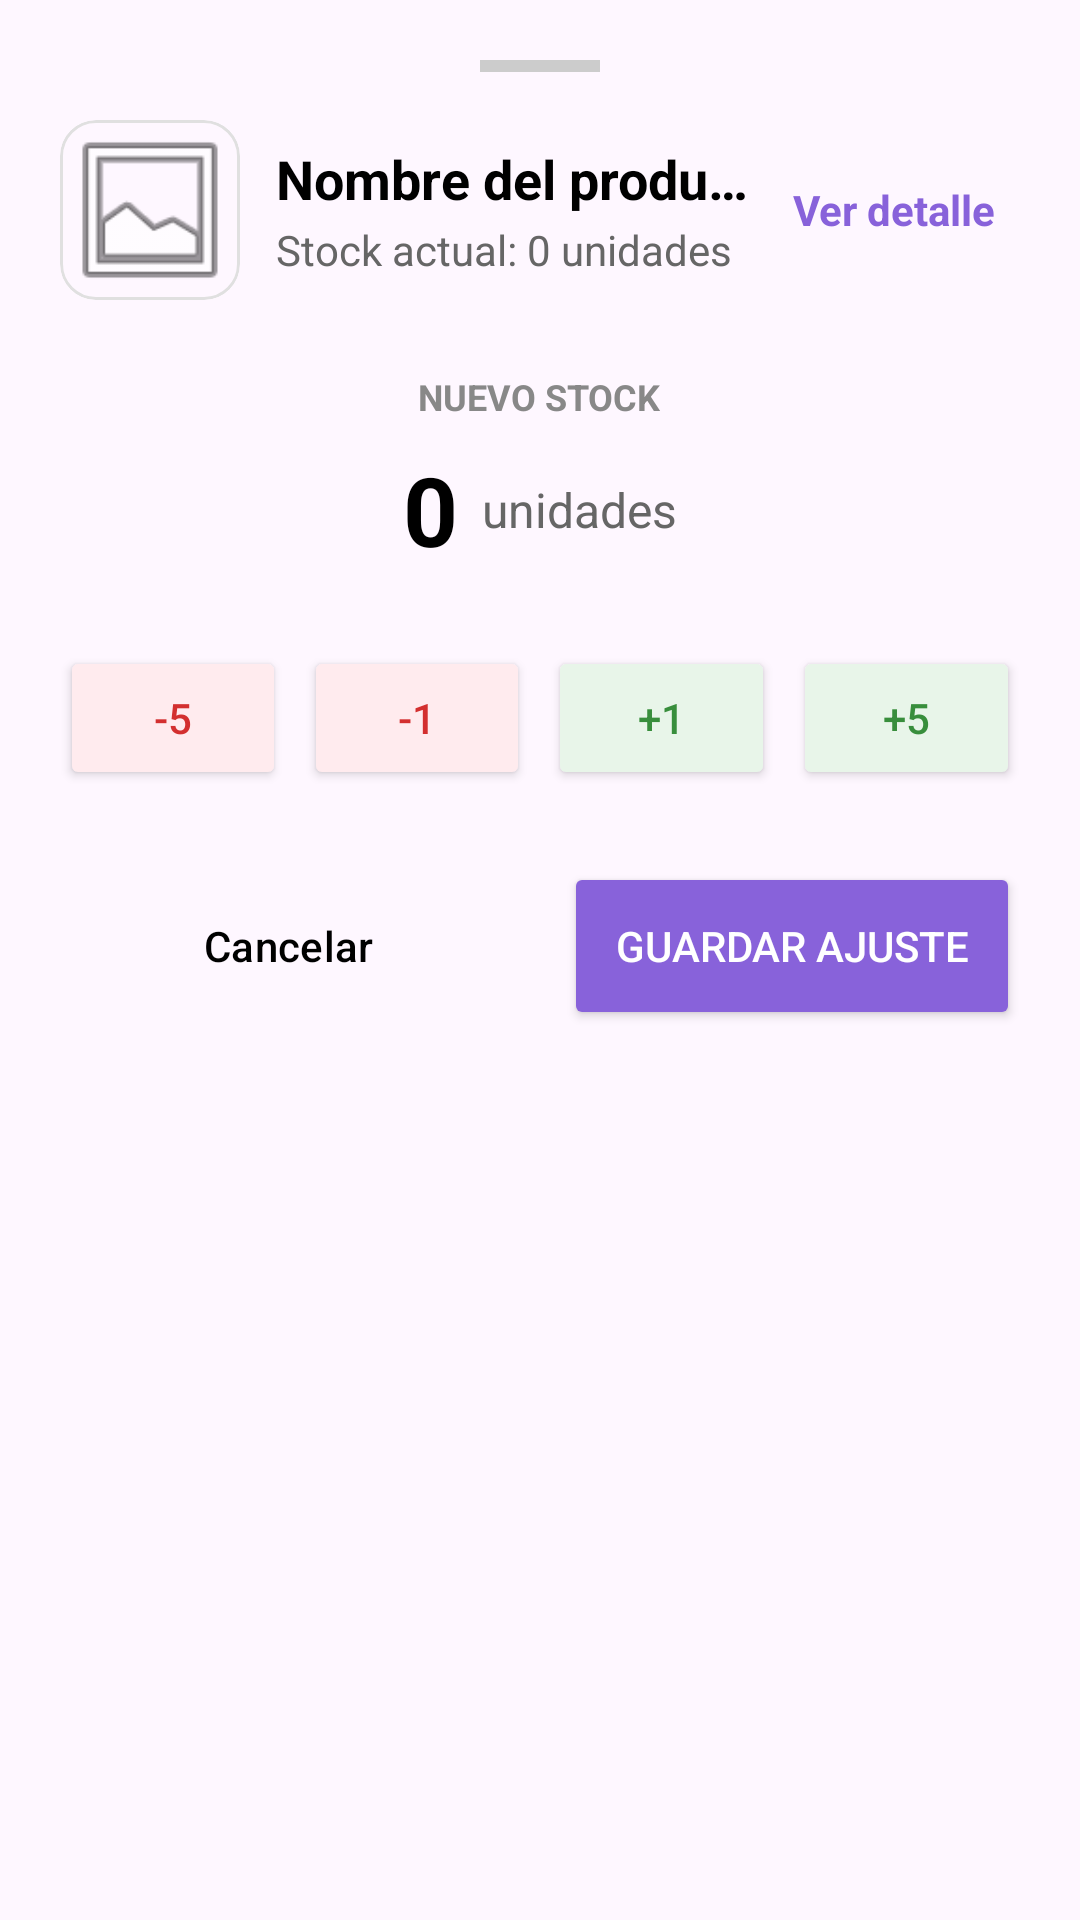

Named icons in this screenshot (1080 x 1920) and their bounding boxes, (x1, y1, x2, y2):
gallery: (60, 120, 240, 300)
